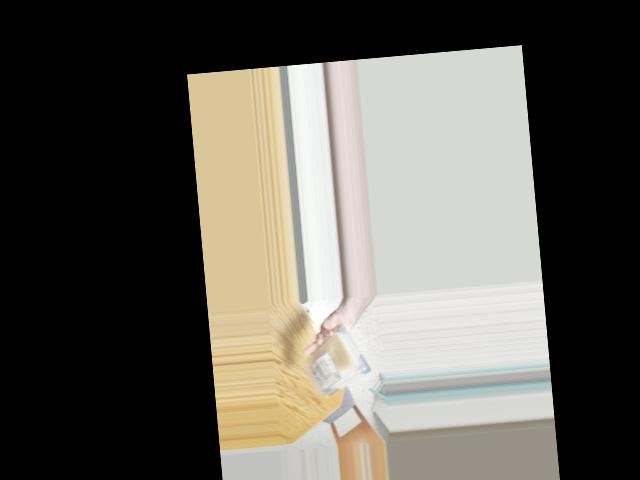cheese: (306, 330, 361, 394)
